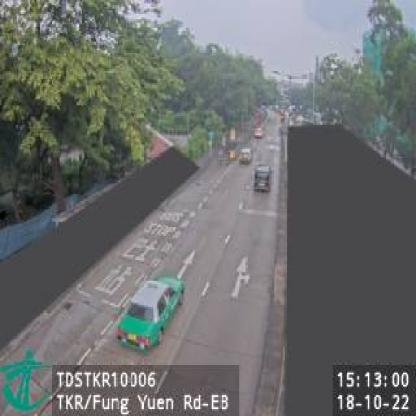Car: (115, 276, 186, 351), (254, 161, 274, 195), (239, 144, 255, 165), (253, 126, 263, 140)
